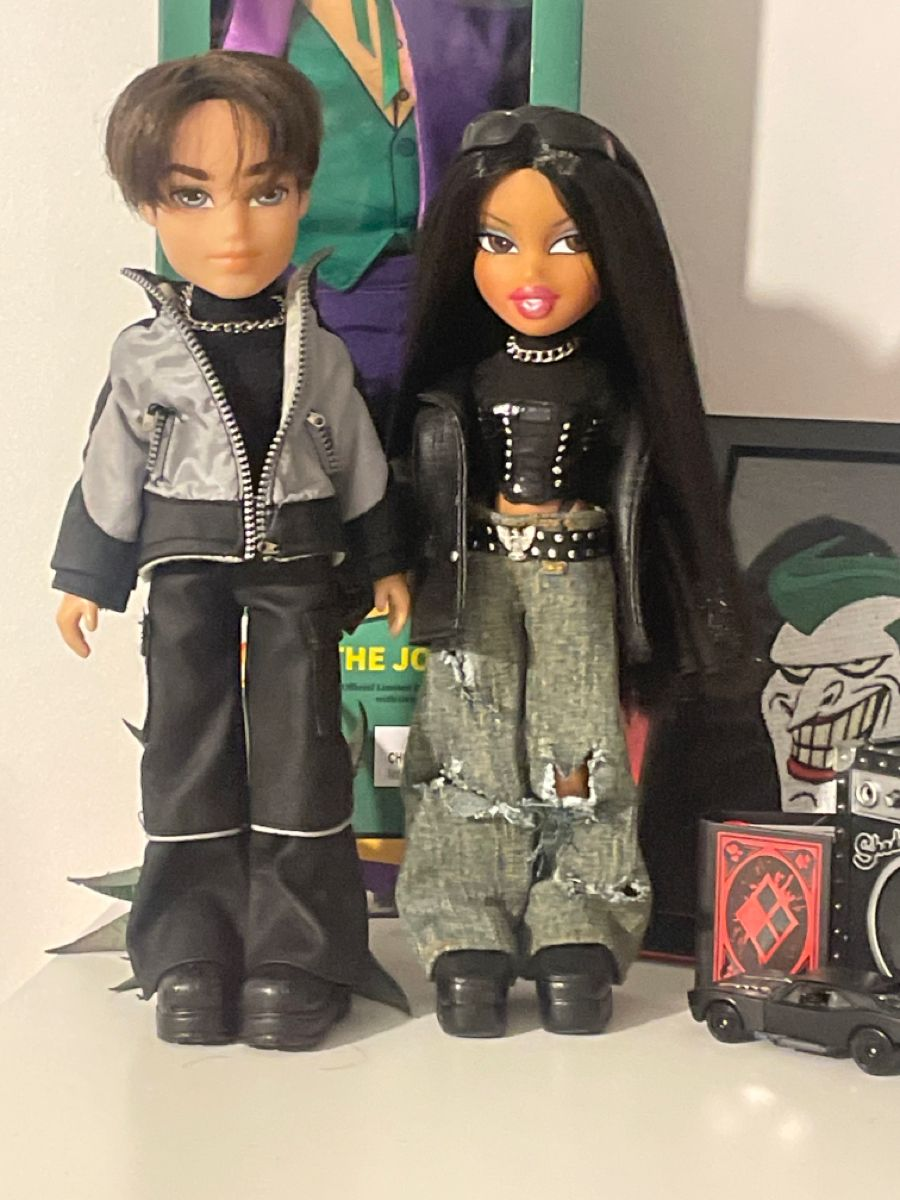Imprimante: (499, 538, 756, 984)
